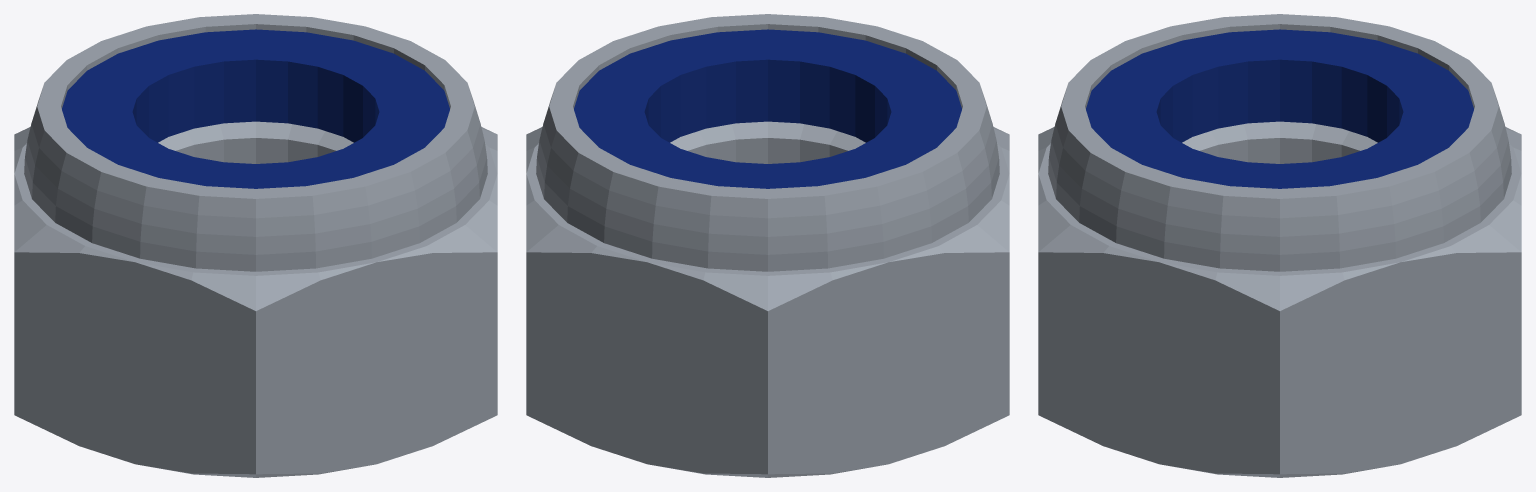
Rendered from model_display.glb.
3 renders of one model, left to right at view 1: azimuth 30°, elevation 25°; view 2: azimuth 150°, elevation 25°; view 3: azimuth 270°, elevation 25°, orthographic.
Parts seen in each view (by area): view 1: steel, nylon_insert; view 2: steel, nylon_insert; view 3: steel, nylon_insert.
Part boxes in pixels (box(x1,y1,x2,y2)): steel: box(14, 14, 497, 477); nylon_insert: box(62, 29, 449, 188); steel: box(526, 14, 1009, 477); nylon_insert: box(574, 29, 961, 188); steel: box(1038, 14, 1521, 477); nylon_insert: box(1086, 29, 1473, 188).
Size of the model in its own units: 0.015 by 0.008 by 0.013.
